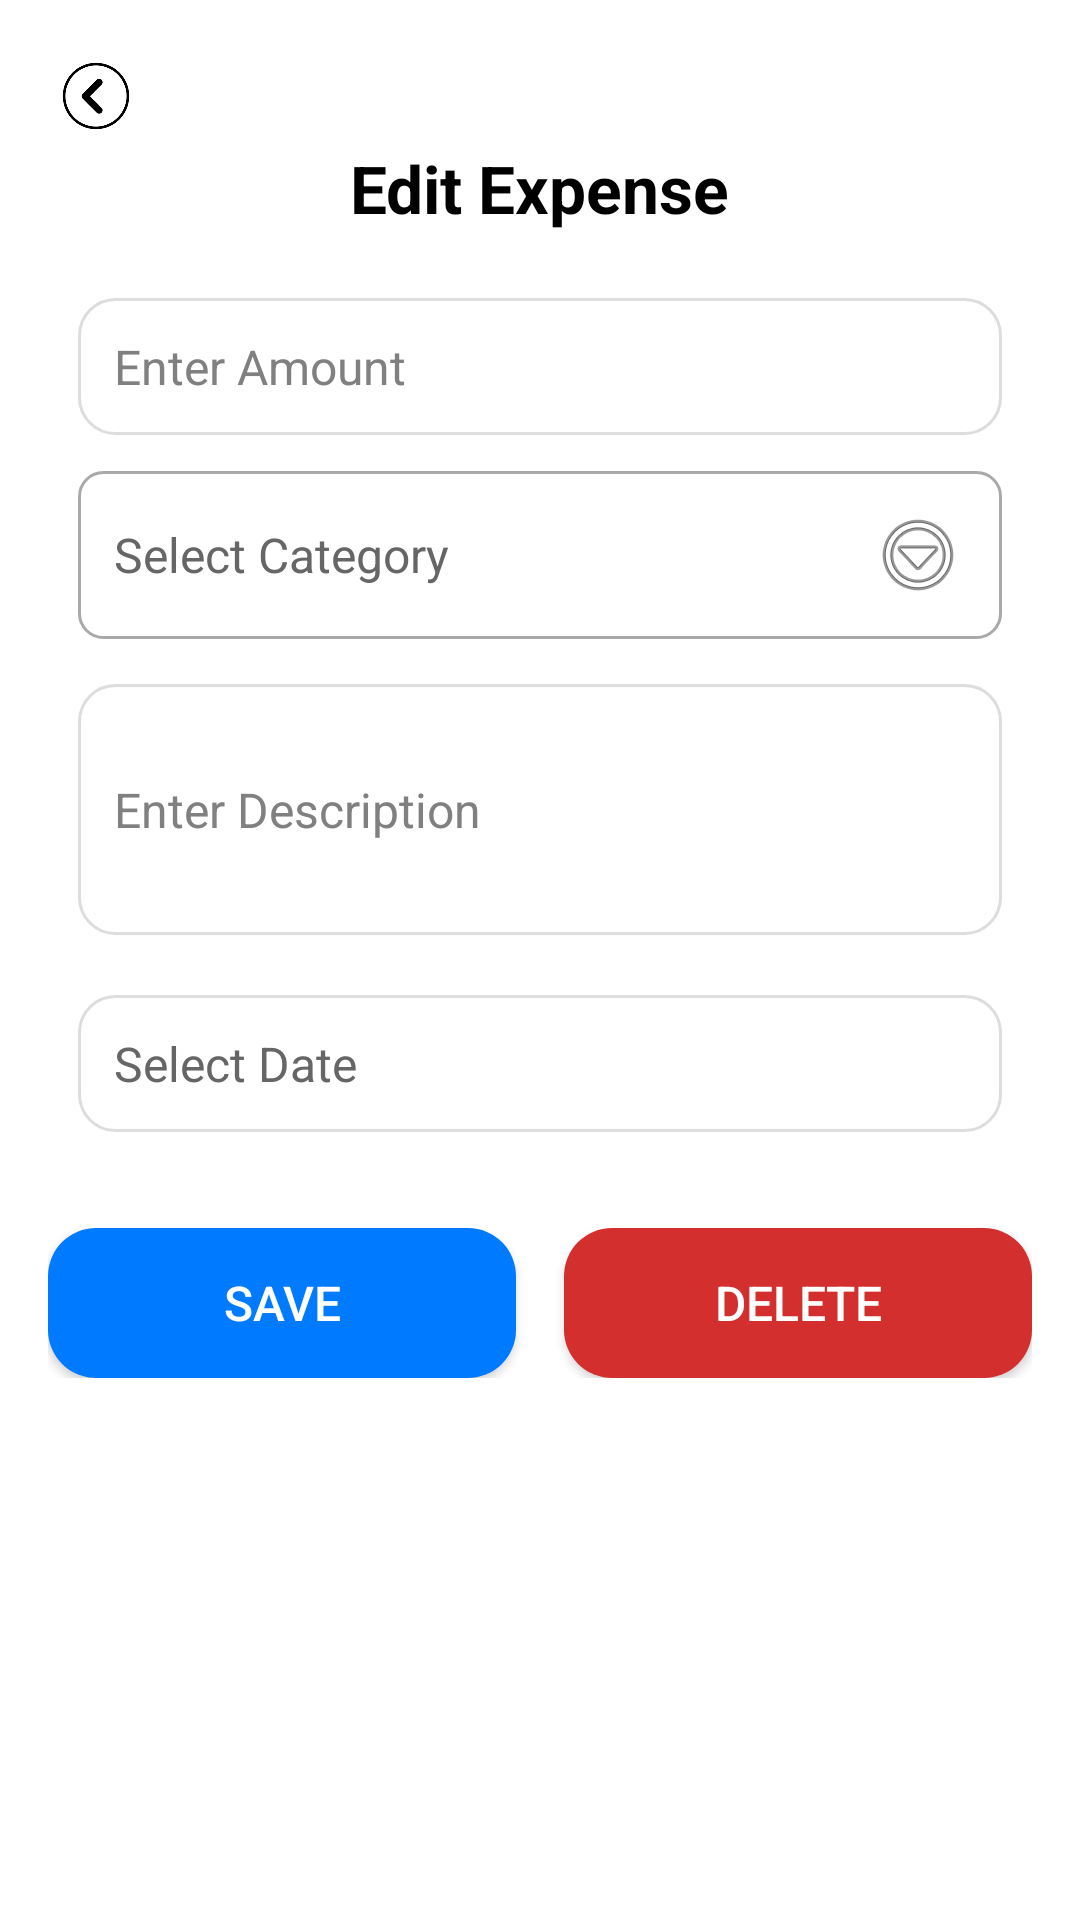

Icons on this 1080px x 1920px Android screen, each with its box as [x1,y1,x2,y2]:
Back: [63,63,129,129]
